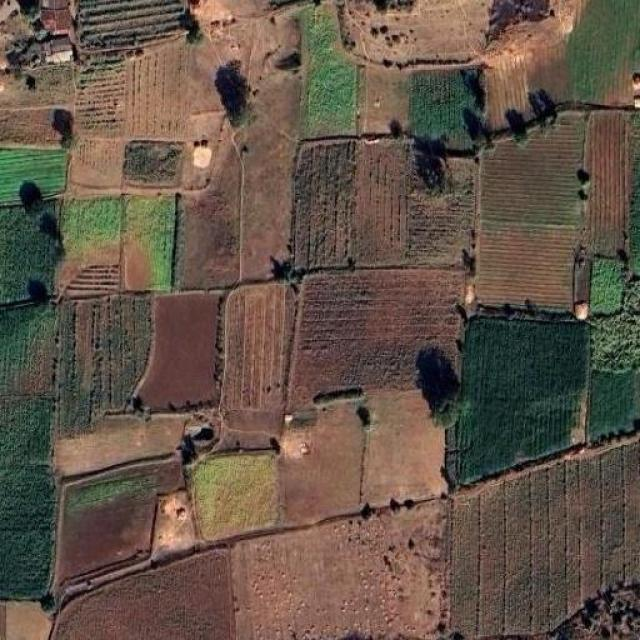land-Sx1C: (449, 438, 640, 636), (230, 500, 446, 639), (288, 268, 465, 409), (456, 316, 590, 483), (478, 112, 586, 311), (51, 549, 234, 639), (236, 71, 301, 281), (56, 295, 151, 435), (483, 114, 582, 224), (281, 398, 365, 523), (132, 291, 219, 411), (362, 390, 448, 506), (176, 141, 241, 290), (221, 282, 294, 411), (406, 139, 476, 269), (484, 36, 570, 131), (189, 451, 278, 539), (294, 140, 354, 268), (301, 4, 358, 138), (568, 0, 640, 104), (475, 231, 571, 308), (354, 139, 410, 266), (0, 468, 54, 598), (582, 110, 629, 257), (0, 201, 62, 304), (125, 38, 188, 138), (410, 71, 481, 149), (78, 0, 184, 50), (0, 302, 56, 394), (124, 196, 175, 291), (61, 196, 122, 264), (0, 396, 52, 466), (76, 62, 124, 137), (0, 149, 66, 203), (589, 371, 639, 442), (361, 65, 409, 134), (0, 64, 74, 108), (0, 106, 72, 146), (69, 140, 125, 188), (125, 141, 182, 186), (58, 262, 120, 301), (0, 602, 52, 640), (590, 258, 625, 314)
